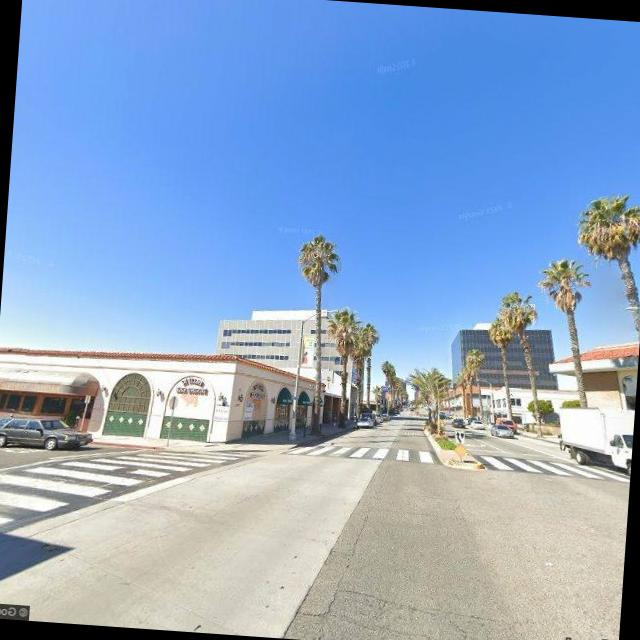crack: (294, 578, 539, 640)
pothole: (318, 495, 378, 620)
